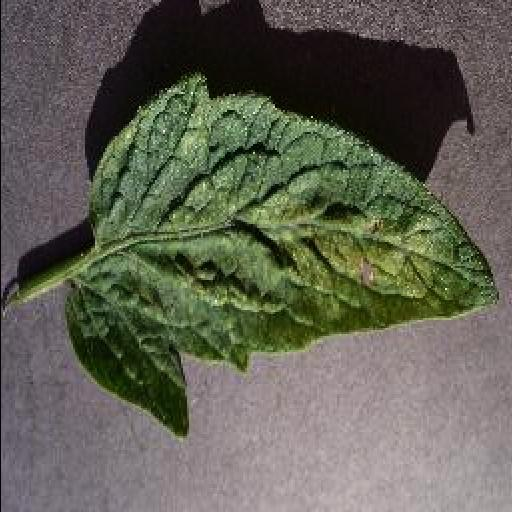disease_tomato: (63, 76, 505, 438)
